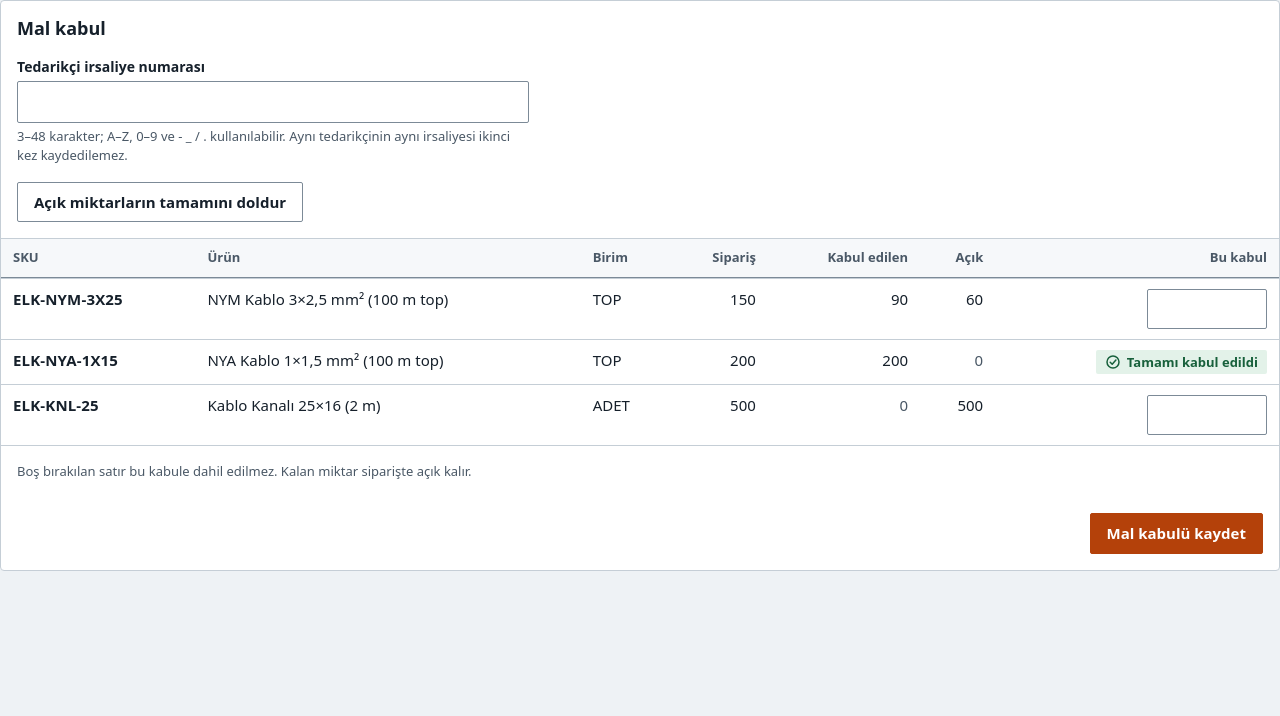
it: mal kabul formu › yinelenen irsaliye numarasında (409) hiçbir şeyin iki kez uygulanmadığını söyler
Step 1. Type "AK-2026-11873" into the field labelled "Tedarikçi irsaliye numarası" → (273, 102), box [17, 80, 529, 122]
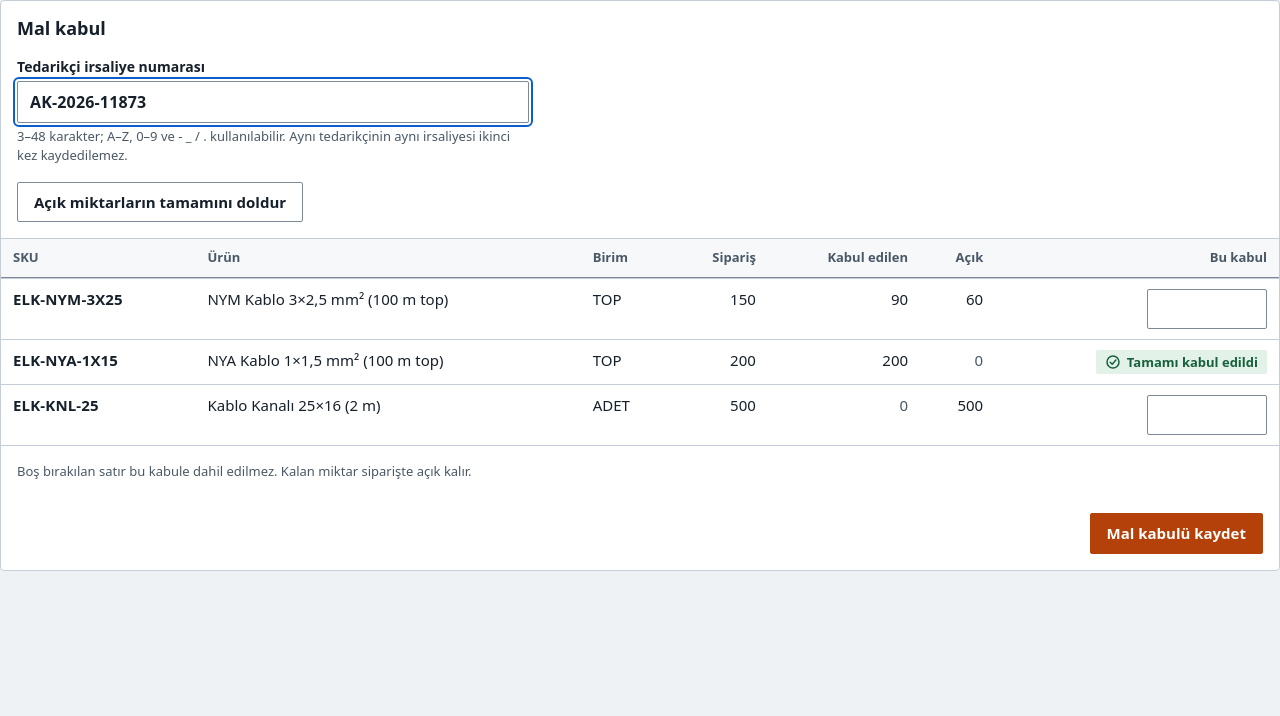
Step 2. Type "10" into the field in the row of "ELK-KNL-25" → (1207, 415), box [1147, 395, 1267, 435]
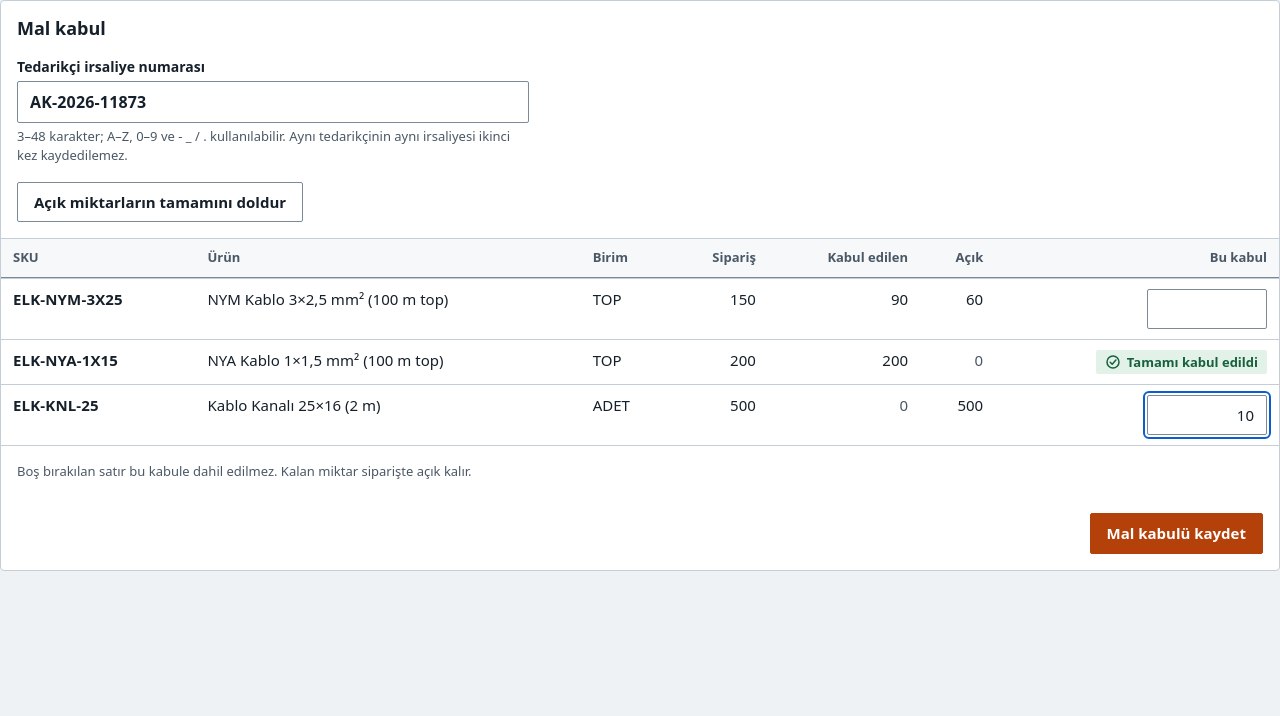
Step 3. Click the button "Mal kabulü kaydet" → (1176, 534), box [1090, 513, 1263, 554]
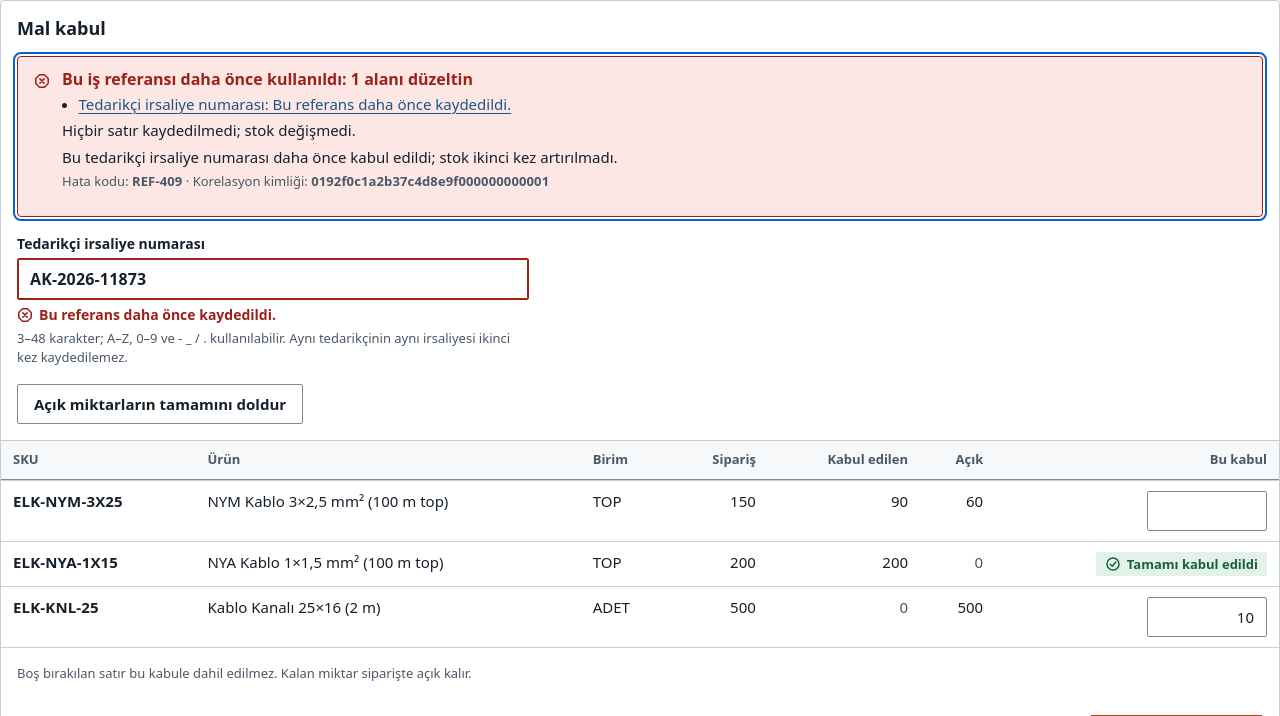
Now the element "Bu iş referansı daha önce kullanıldı" shows "stok ikinci kez artırılmadı", box [62, 146, 618, 166]
Now the element "Bu iş referansı daha önce kullanıldı" shows "REF-409", box [132, 172, 182, 190]
